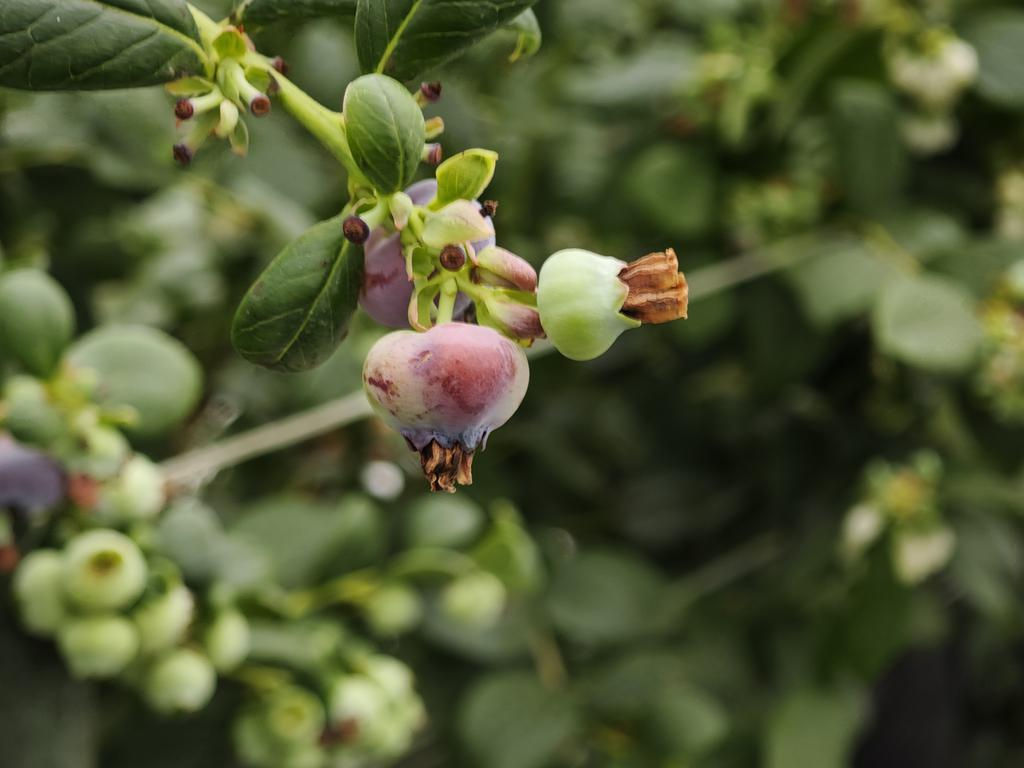Semi-RipeBlueBerry: (359, 325, 532, 455)
UnripeBlueBerry: (534, 247, 645, 365)
